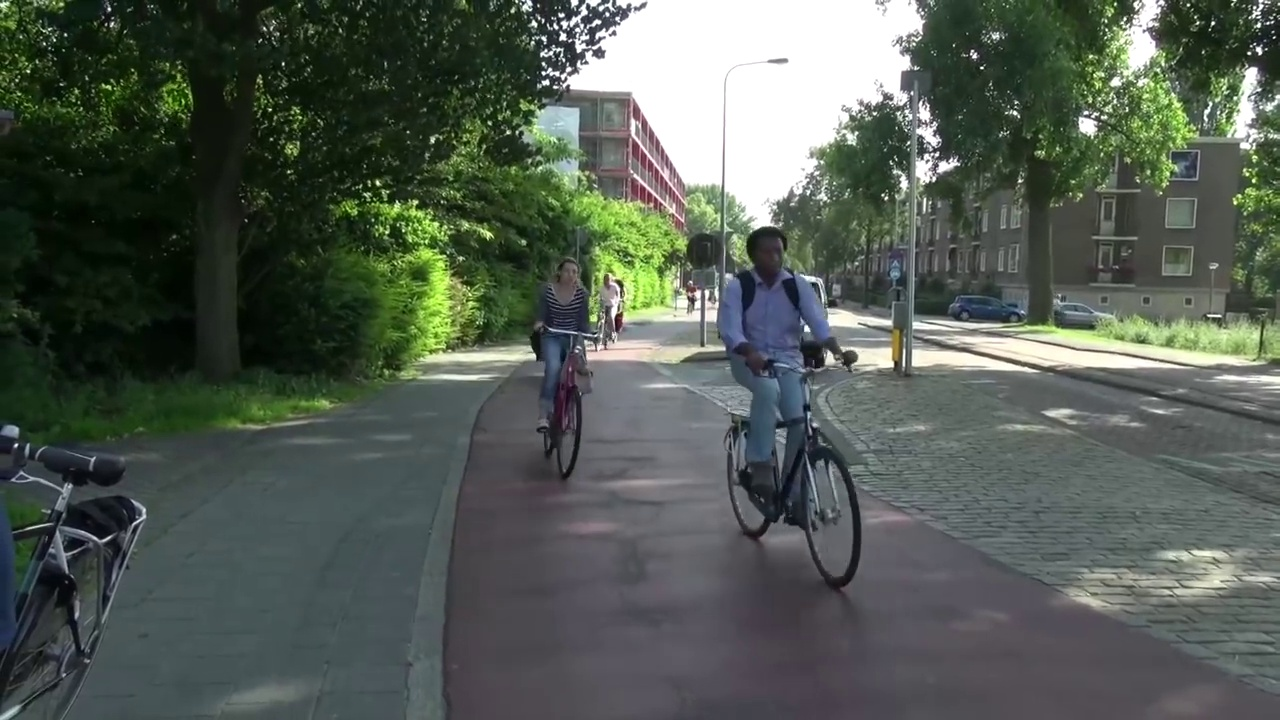cyclist_front: (717, 227, 874, 596), (533, 259, 604, 483), (597, 272, 622, 355), (683, 273, 698, 317)
